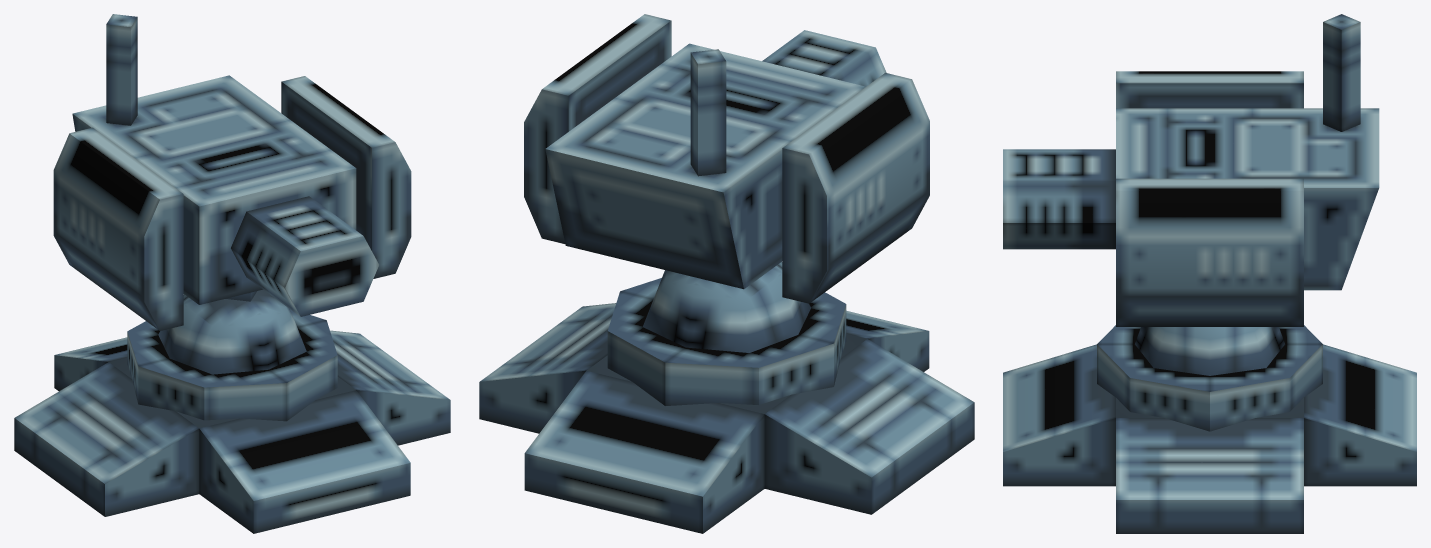
File: BaseTurret.fbx
3 renders of one model, left to right at view 1: azimuth 30°, elevation 25°; view 2: azimuth 150°, elevation 25°; view 3: azimuth 270°, elevation 25°, orthographic. The views are drawn at different scales.
Visible parts, largest first — view 1: Turret, Base; view 2: Turret, Base; view 3: Turret, Base.
Boxes of the visible parts, x1,y1,x2,y2 form: Turret: [53, 14, 411, 374]; Base: [14, 309, 450, 533]; Turret: [524, 14, 929, 352]; Base: [479, 278, 974, 533]; Turret: [1003, 14, 1379, 375]; Base: [1003, 325, 1416, 533].
Size of the model in its own units: 11 by 11.75 by 11.
